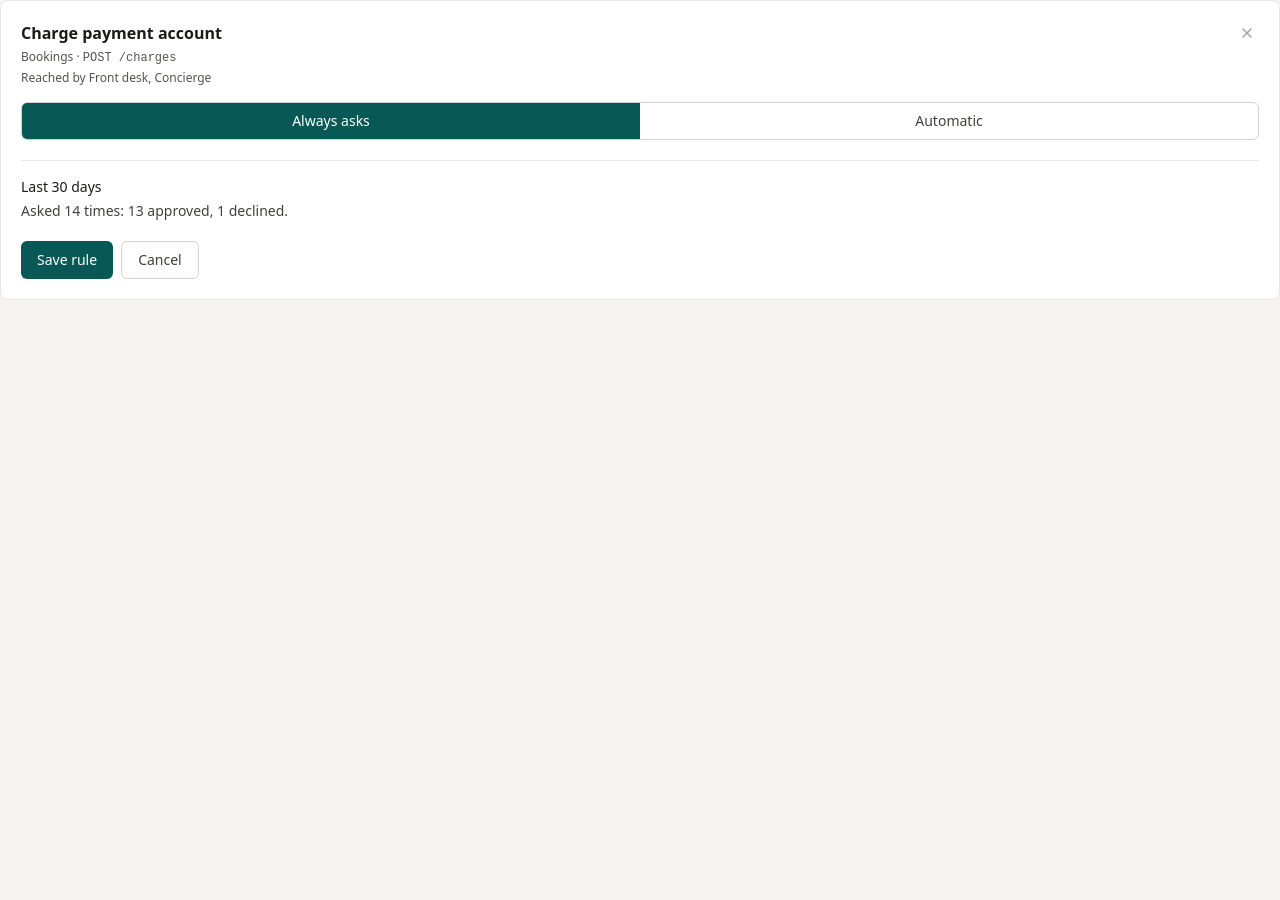
Scenario: ApprovalRulePanel › shows what the rule would have done, declines first
The width and height of the screenshot is (1280, 900).
Click the radio button labelled "Automatic".
click(949, 121)  # box x1=640 y1=103 x2=1258 y2=139
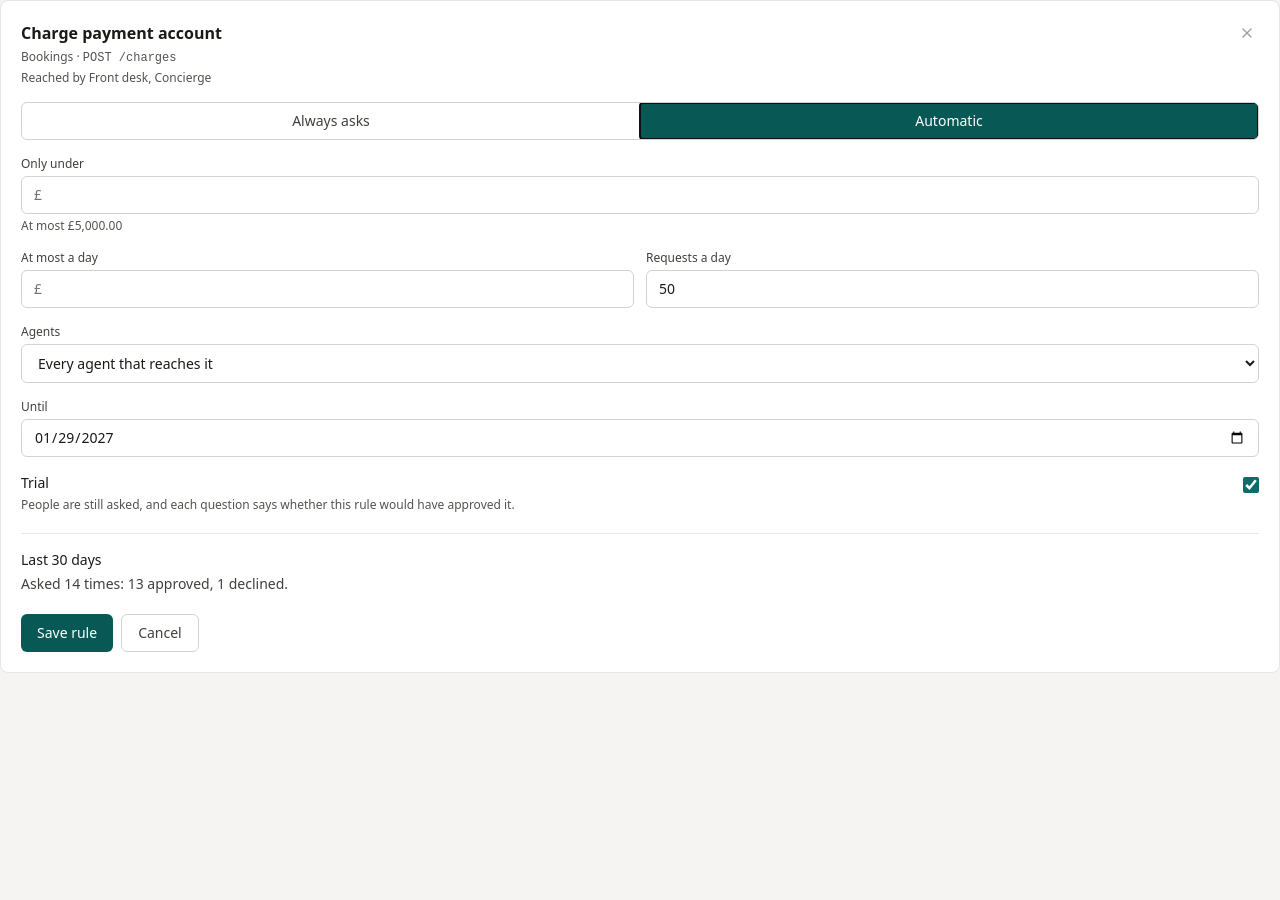
Type "50" into the field labelled "Only under".
click(650, 195); type("50")  # box x1=42 y1=177 x2=1258 y2=213
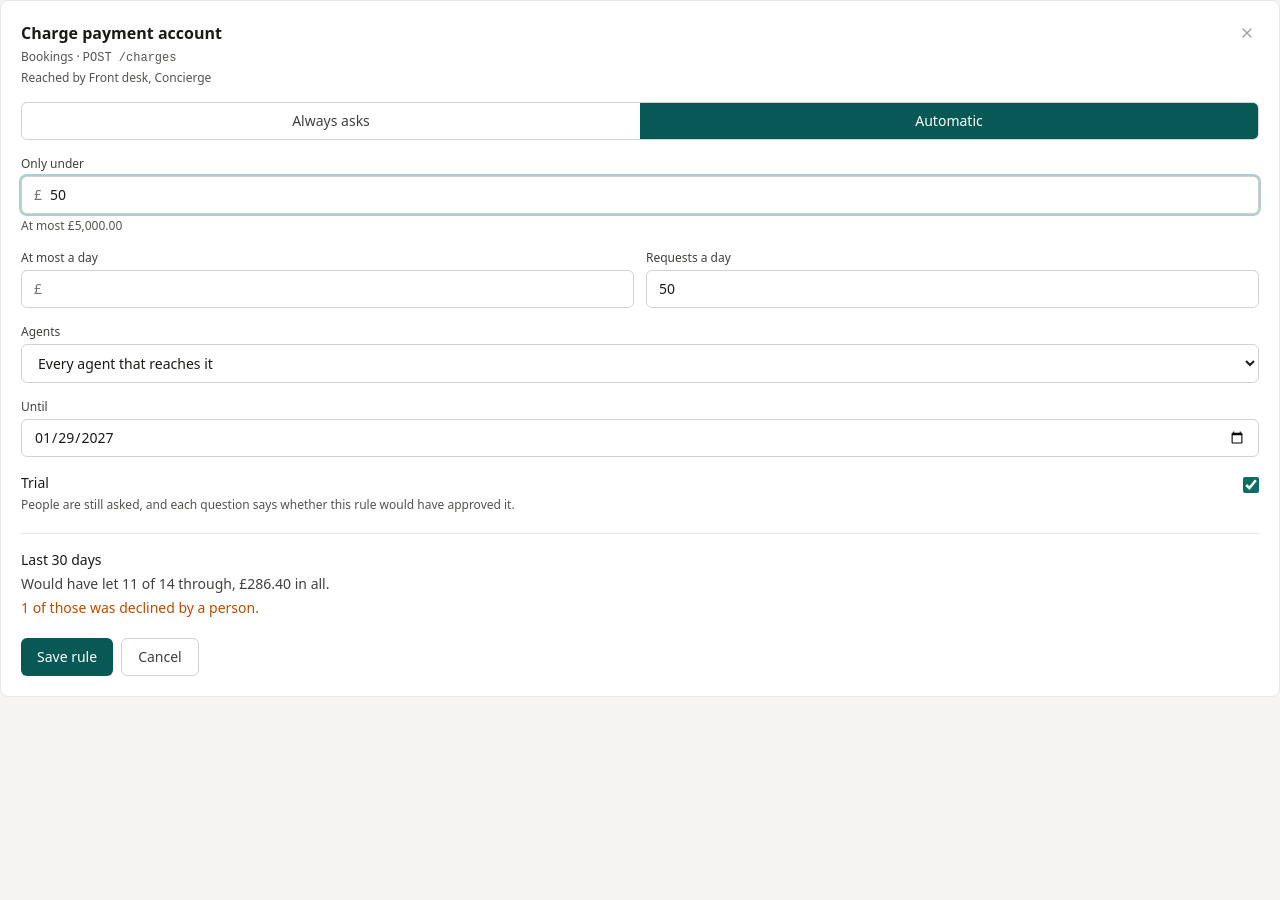
Expected: the text "Would have let 11 of 14 through, £286.40 in all." is shown, x1=21 y1=574 x2=330 y2=593
Expected: the text "1 of those was declined by a person." is shown, x1=21 y1=598 x2=259 y2=617
